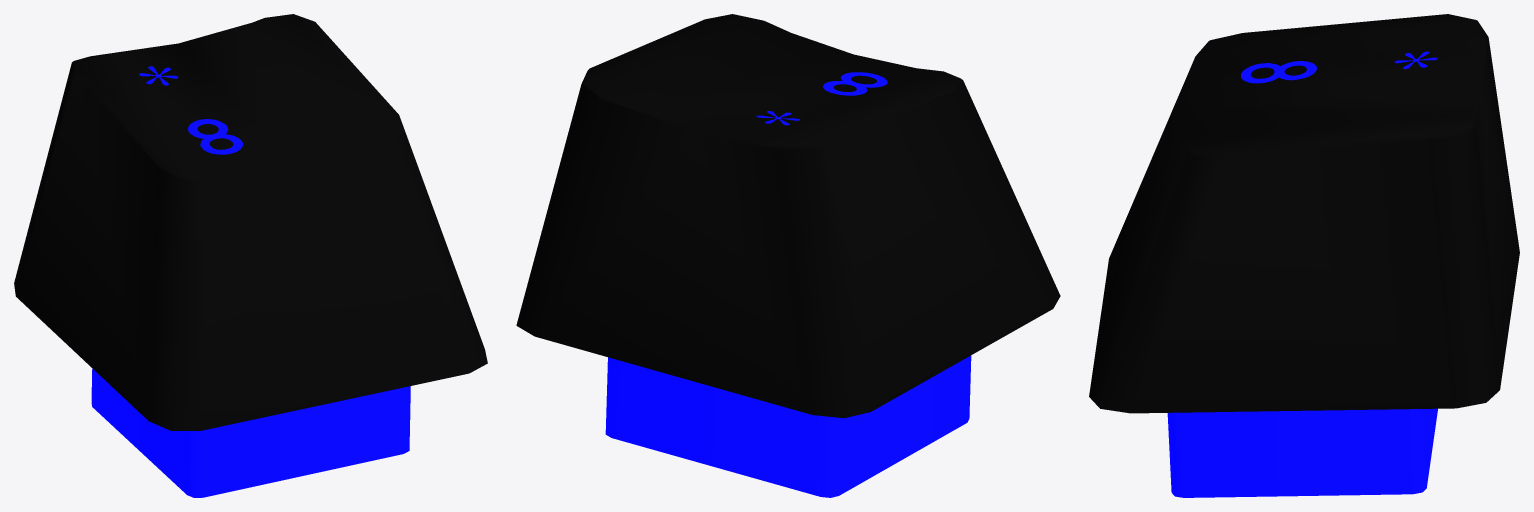
The model's file is key_8_1-Dx9hGeXa.glb.
The picture shows the model from 3 angles, left to right: view 1: azimuth 30°, elevation 25°; view 2: azimuth 150°, elevation 25°; view 3: azimuth 270°, elevation 25°; orthographic projection. The views are drawn at different scales.
Visible parts, largest first — view 1: StudyShelf_534; view 2: StudyShelf_534; view 3: StudyShelf_534.
Part boxes in pixels (x1=…): StudyShelf_534: x1=14, y1=14, x2=487, y2=497; StudyShelf_534: x1=516, y1=14, x2=1060, y2=497; StudyShelf_534: x1=1089, y1=14, x2=1519, y2=497.
Bounding box in the file's own units: 4.35 × 4.14 × 4.35.
